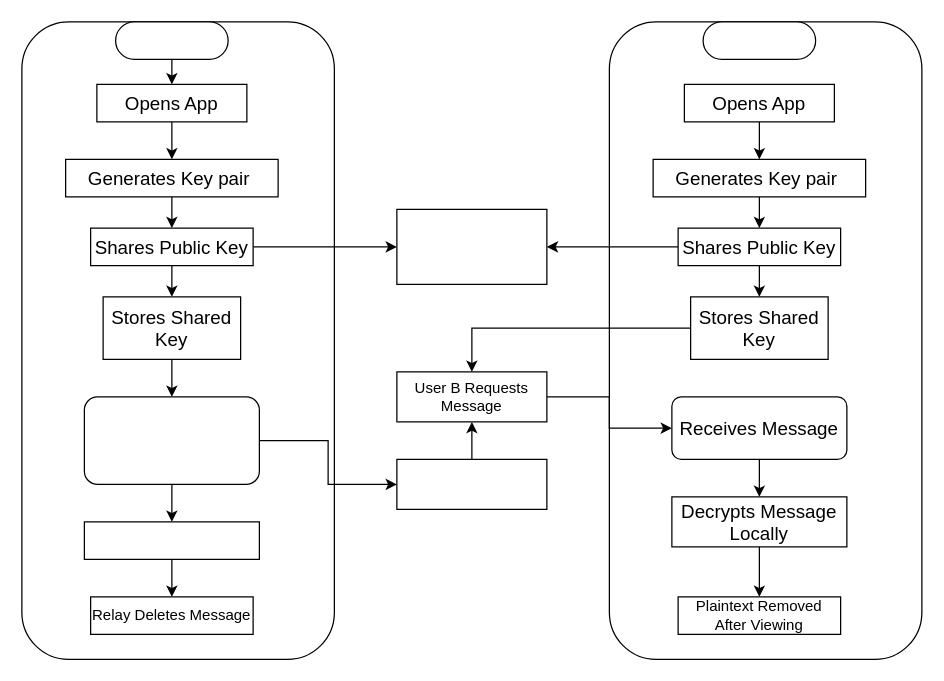
This 944x681 diagram has some shape labels left out. The shapes that lost their labels are listed below. From the top down, each one's centre as x and y in pixels, then its label:
(171,40): User A
(759,40): User B
(471,246): Public Key is Shared Externally
(171,440): Composes Message (Encrypted Locally)
(471,483): User A Sends Encrypted Payload
(171,540): Relay stores in RAM
